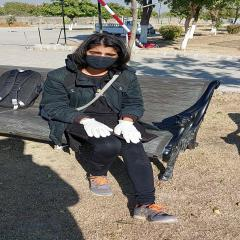gloved: (80, 118, 112, 138), (116, 120, 142, 143)
